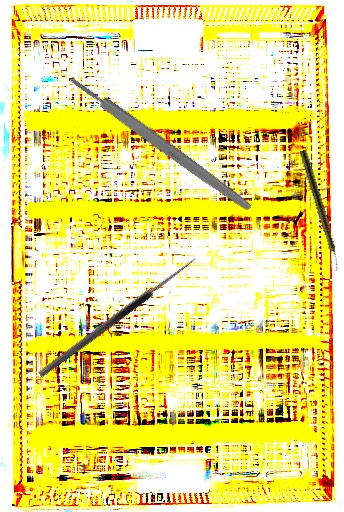Handpiece: (297, 149, 344, 272)
Hook Surgical: (31, 247, 199, 380)
Scalpel Handle: (67, 73, 254, 214)
